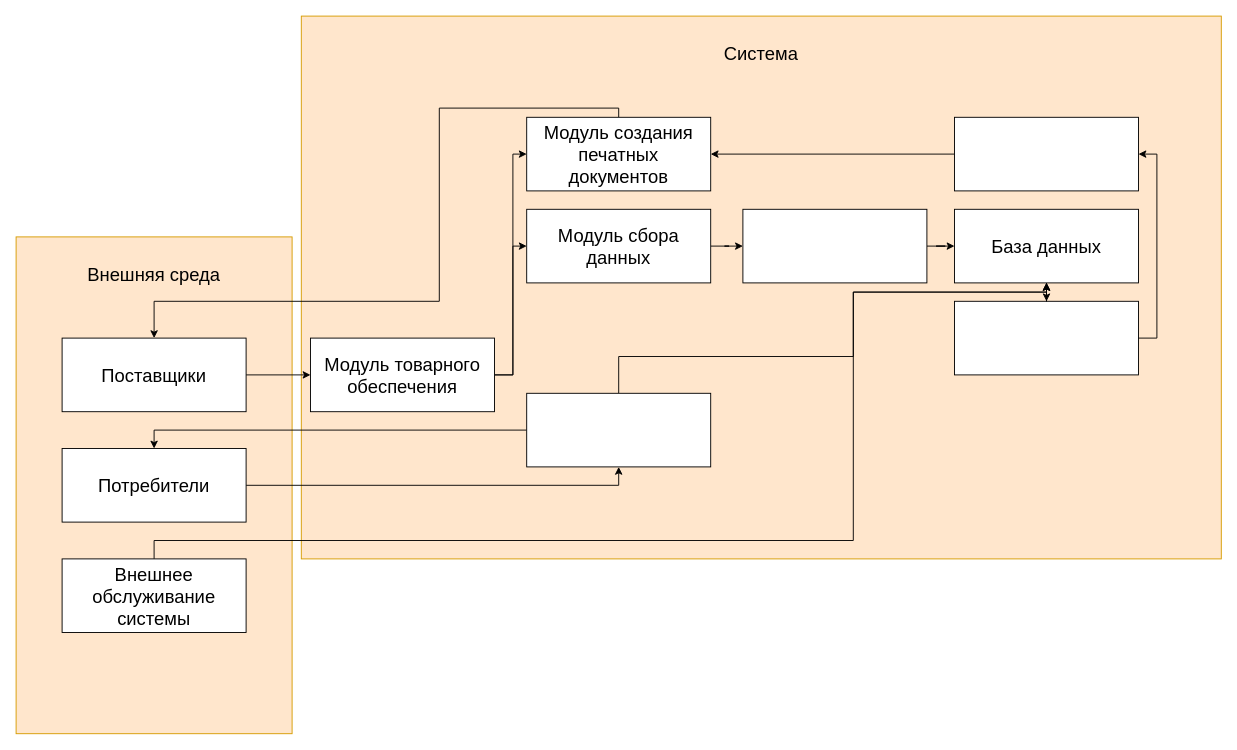
This 1237x750 diagram has some shape labels left out. Here are the shapes that lost their labels. From the top down, the centre of each, then its label:
At [1046,153]: "Модуль вывода базы данных".
At [834,245]: "Модуль ввода базы данных".
At [1046,337]: "Модуль складского учета".
At [618,429]: "Модуль удаленного доступа".
